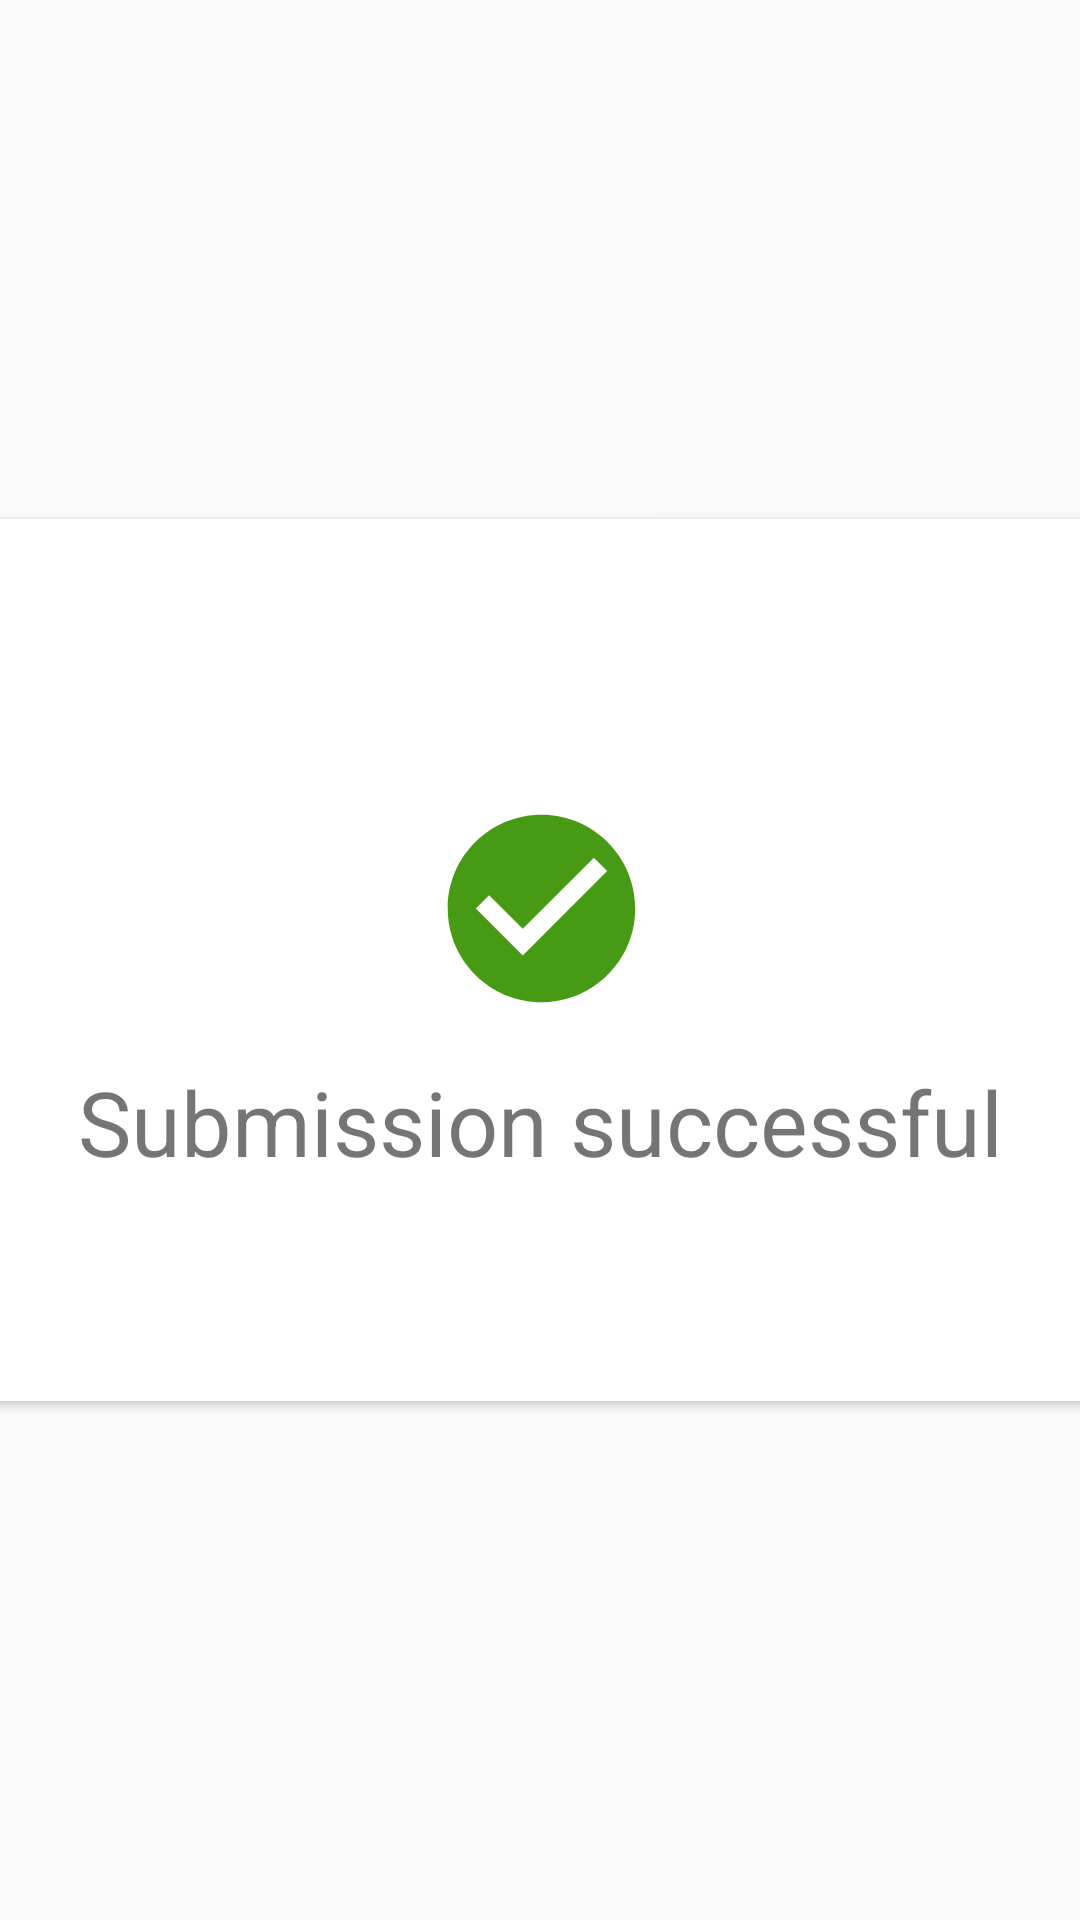

Named icons in this screenshot (1080px×1920px) and their bounding boxes, (x1, y1, x2, y2):
check circle: (447, 814, 636, 1003)
